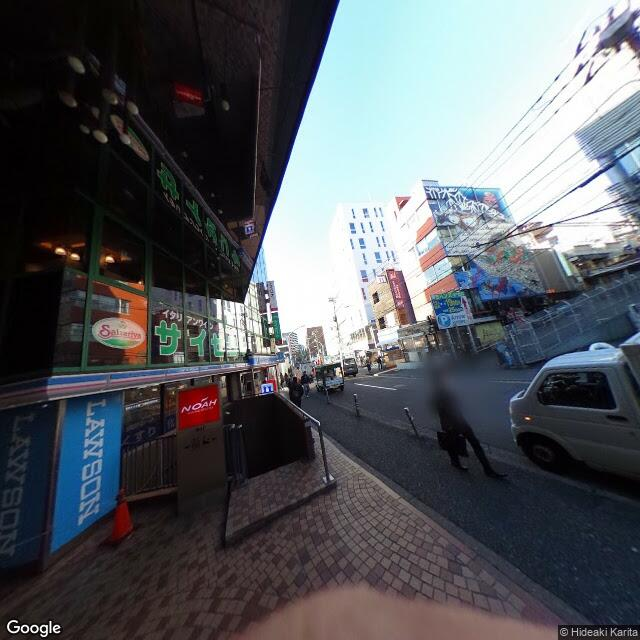lawson: (47, 347, 283, 397), (1, 403, 49, 566), (67, 394, 106, 543), (259, 377, 273, 399)
